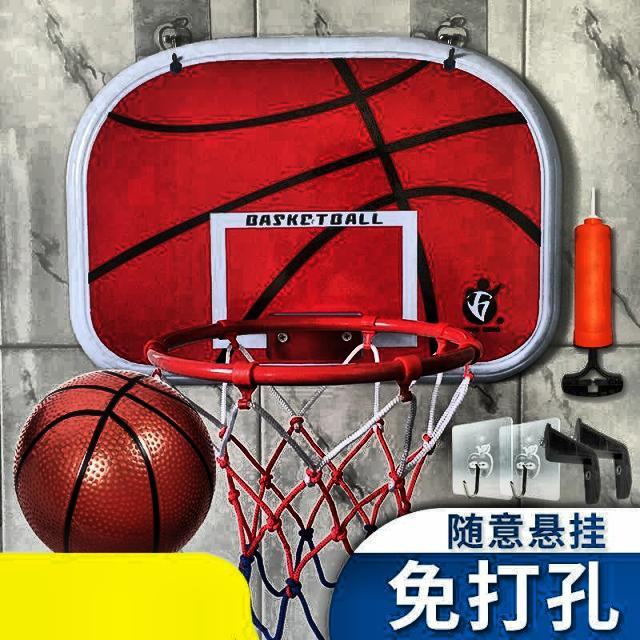board: (14, 369, 215, 555)
rim: (154, 321, 475, 614)
